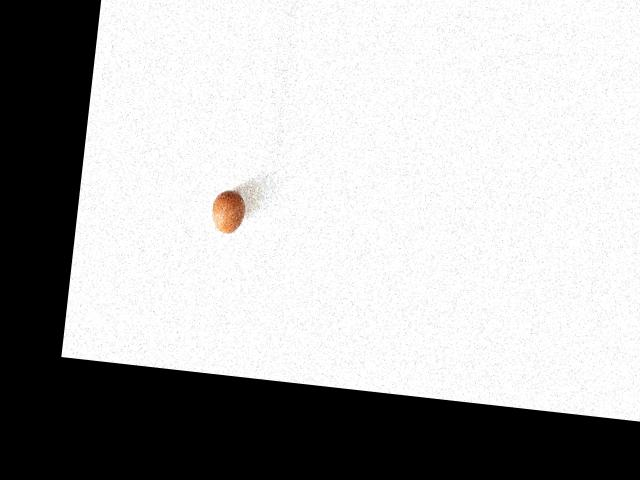egg: (209, 188, 246, 235)
